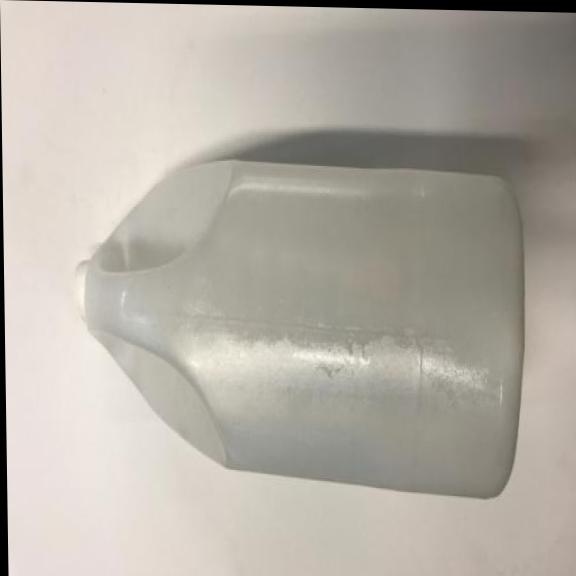Plastik: (55, 140, 534, 509)
